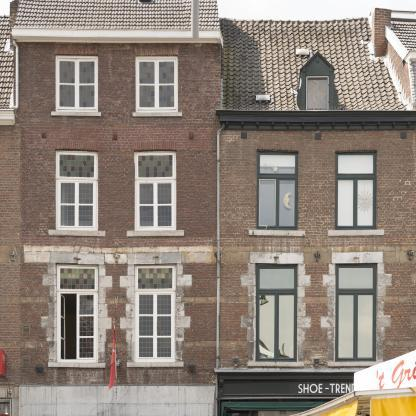Building Outline: (0, 0, 416, 416)
Cornice: (127, 252, 182, 264), (50, 252, 104, 264), (250, 252, 304, 264), (332, 252, 383, 263), (54, 140, 98, 151), (134, 141, 177, 151), (256, 141, 299, 151), (334, 142, 378, 151), (55, 46, 99, 55), (135, 47, 179, 55)
Deco: (13, 0, 220, 29), (113, 252, 120, 262), (407, 250, 414, 260), (10, 251, 17, 260), (315, 252, 321, 262)
Dont: (288, 349, 416, 416)
Facade: (0, 19, 416, 415)
Floor: (0, 257, 416, 394), (1, 130, 416, 250)
Floor Slab: (0, 124, 416, 130), (0, 250, 416, 256), (0, 393, 416, 399)
Roof: (219, 16, 412, 110), (0, 14, 14, 109), (386, 21, 416, 51)
Shop: (216, 372, 357, 400)
Sill: (48, 230, 106, 237), (248, 229, 305, 236), (127, 230, 184, 237), (247, 361, 304, 367), (328, 230, 384, 236), (328, 362, 384, 367), (51, 111, 101, 116), (132, 112, 182, 117)
Top Floor: (1, 20, 416, 124)
Window: (337, 266, 375, 362), (258, 267, 295, 361), (57, 152, 96, 231), (136, 152, 175, 231), (336, 152, 375, 230), (258, 153, 297, 230), (60, 293, 95, 359), (138, 293, 172, 359), (57, 58, 97, 112), (137, 58, 176, 112), (307, 77, 329, 111), (60, 269, 95, 290), (138, 268, 172, 289)
